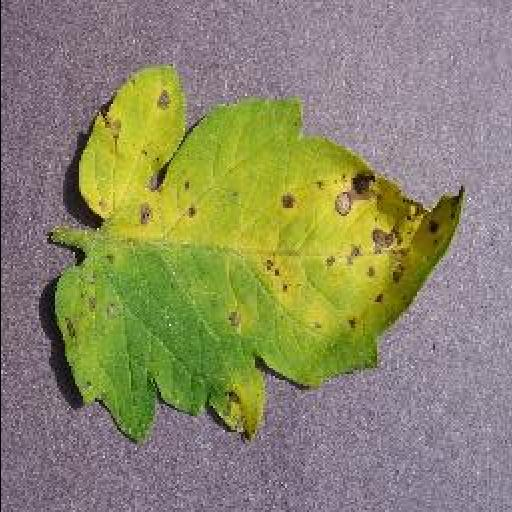disease_tomato: (48, 68, 464, 446)
